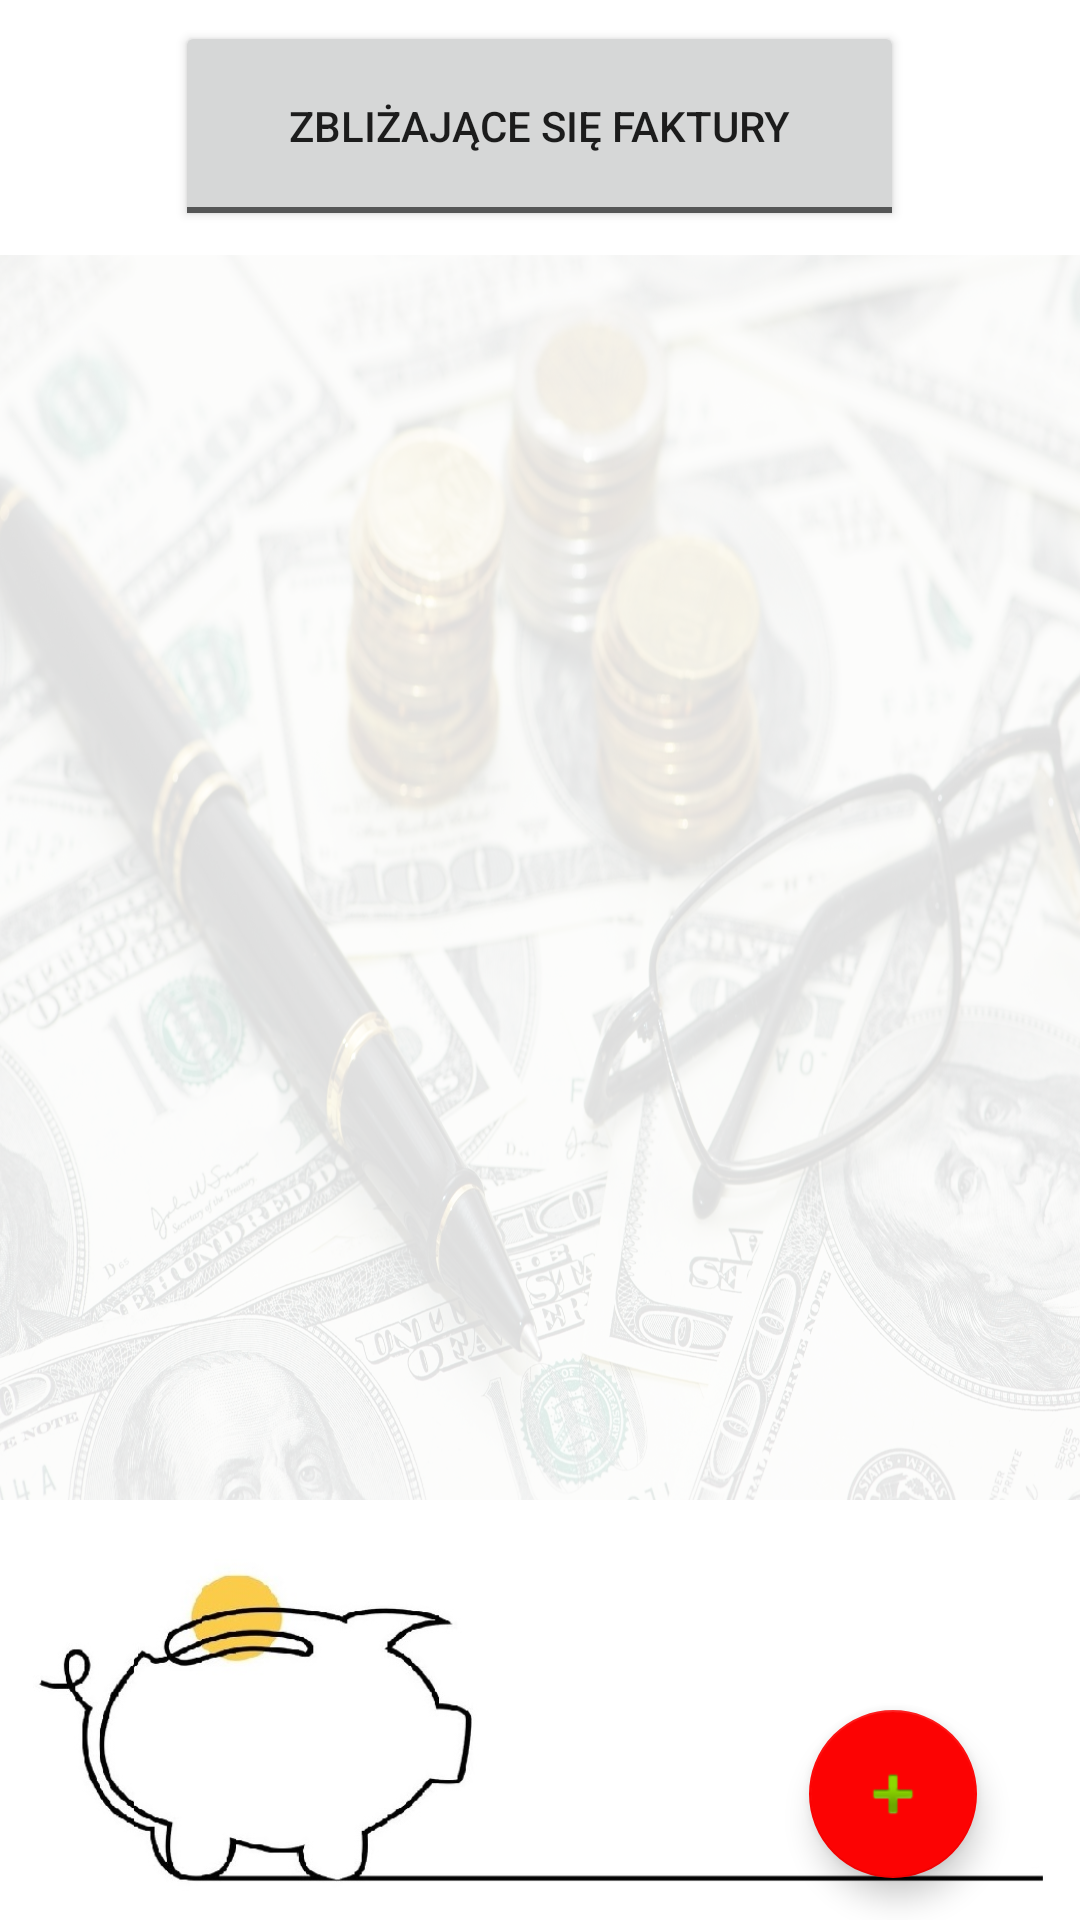

Icons on this 1080×1920 Android screen, each with the point to tap as (x,y):
add: (893,1794)
